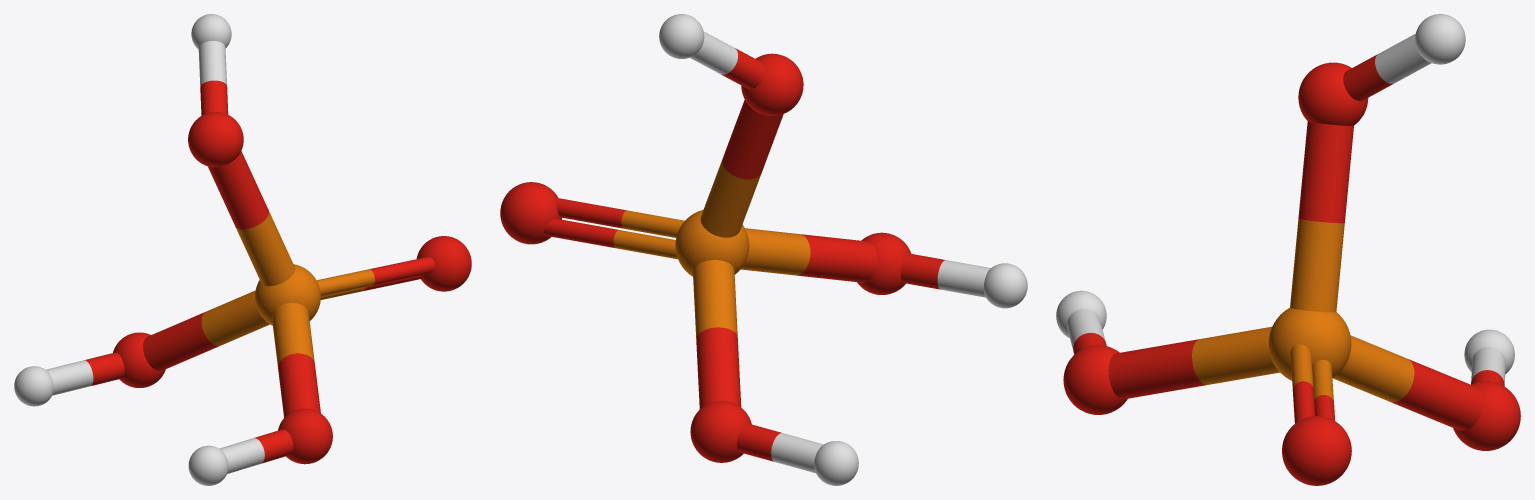
3 views of the same model, side by side, from view 1: azimuth 30°, elevation 25°; view 2: azimuth 150°, elevation 25°; view 3: azimuth 270°, elevation 25° (orthographic). The views are drawn at different scales.
Size of the model in its own units: 3.61 by 3.34 by 3.03.
